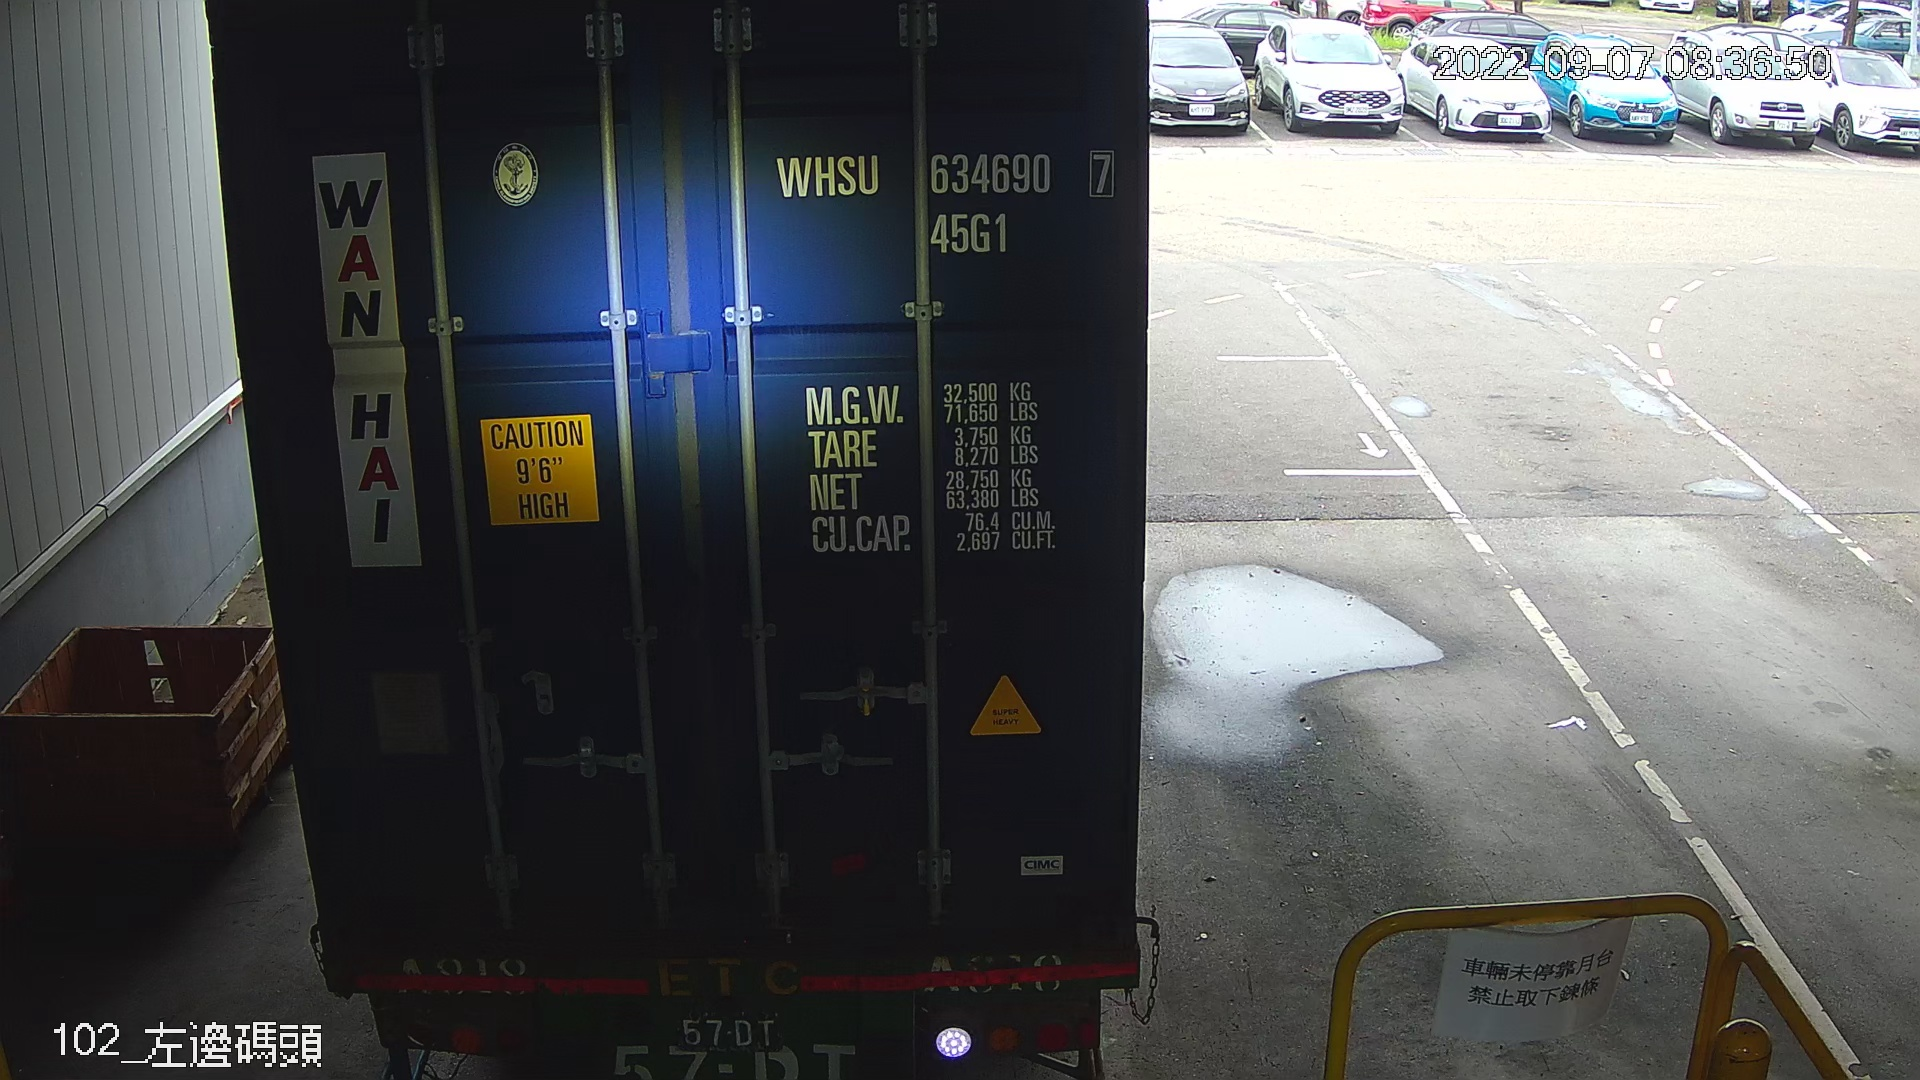container: (757, 135, 1124, 264)
